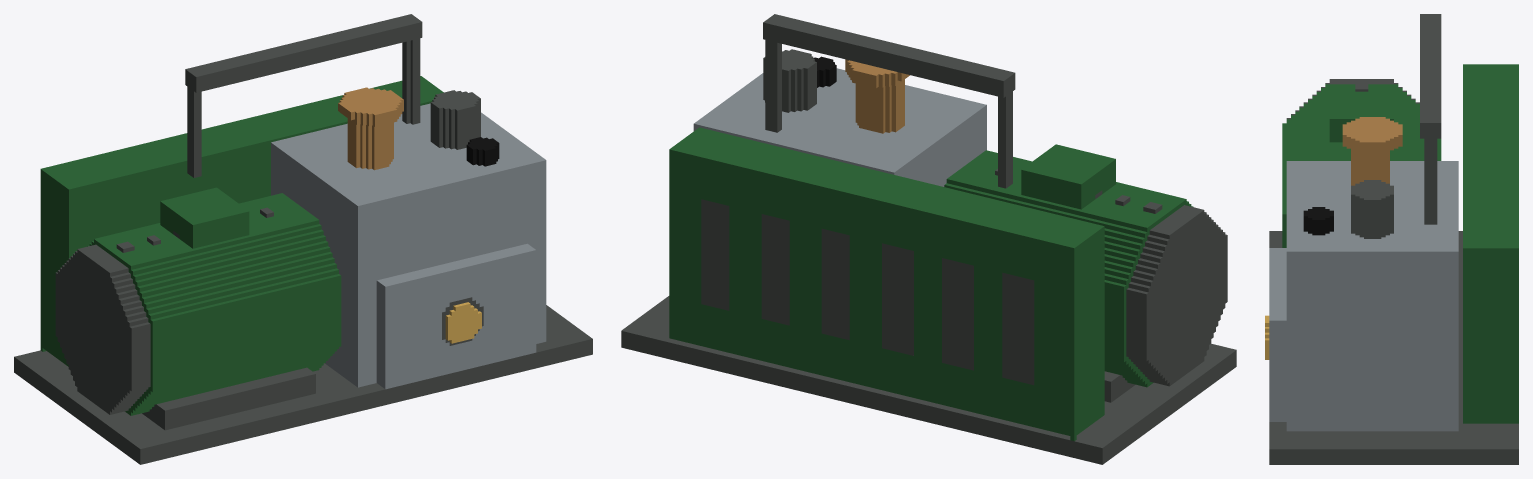
File: vac_pump.glb
3 views of the same model, side by side, from view 1: azimuth 30°, elevation 25°; view 2: azimuth 150°, elevation 25°; view 3: azimuth 270°, elevation 25° (orthographic). The views are drawn at different scales.
Parts seen in each view (by area): view 1: vac_pump:compound; view 2: vac_pump:compound; view 3: vac_pump:compound.
Boxes of the visible parts, box(x1,y1,x2,y2) form: vac_pump:compound: box(14, 14, 592, 464); vac_pump:compound: box(621, 14, 1236, 464); vac_pump:compound: box(1265, 14, 1518, 464).
Size of the model in its own units: 0.48 by 0.304 by 0.236.
